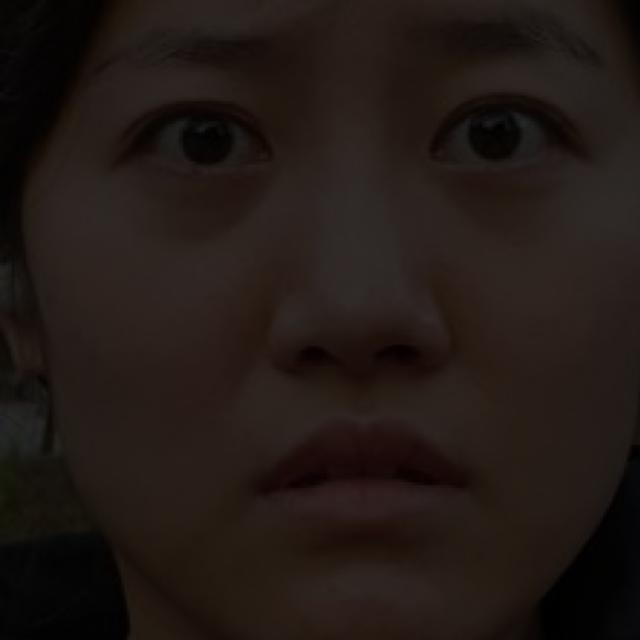Surprised: (36, 19, 640, 586)
